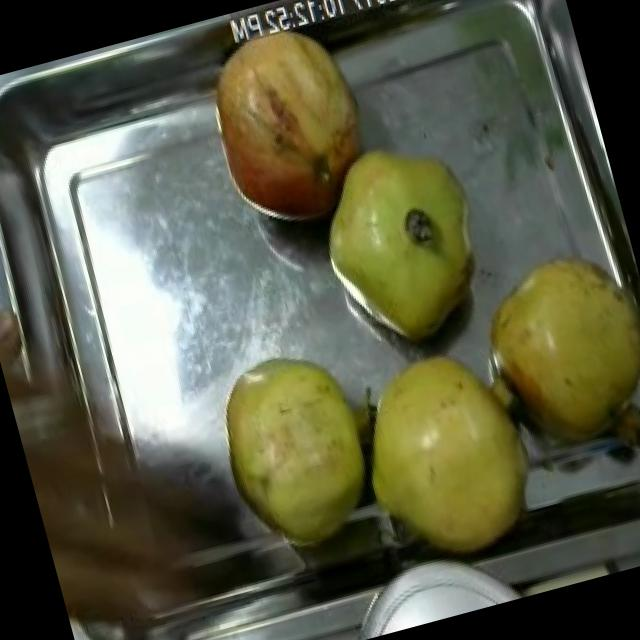fruit: (324, 318, 563, 588), (296, 116, 512, 366), (192, 324, 398, 576), (188, 0, 393, 247), (452, 220, 640, 486)
